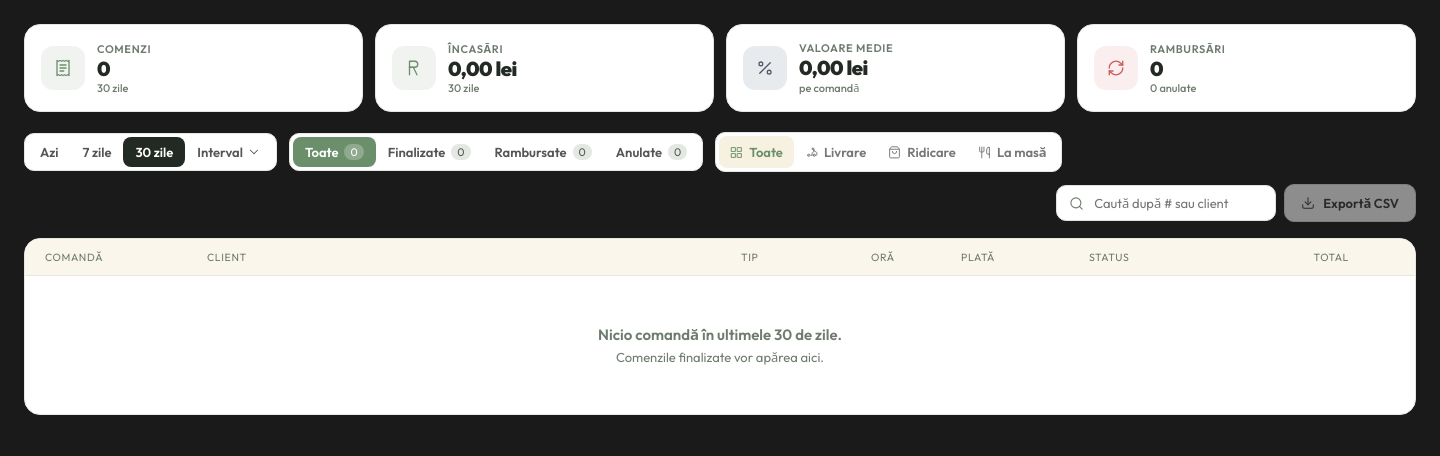
Test: Custom range popover wiring — D-03/D-04 (09-05) › WR-01: a genuine outside mousedown still closes the popover
The image size is (1440, 456).
Click the button with test id "history-period-pill" showing "Interval" at (229, 152), box [185,137,273,167]
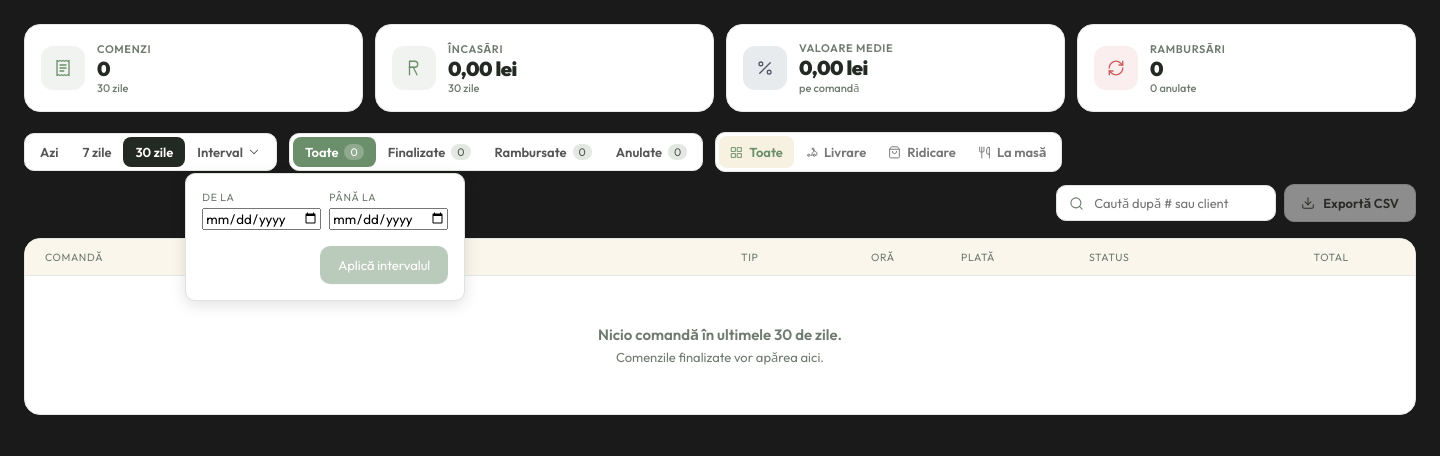
Result: the element with test id "history-range-popover" is shown at [185,173,465,301]
Press the mouse on the element that starts with "Comenzi" at (720, 220), box [0,0,1439,439]
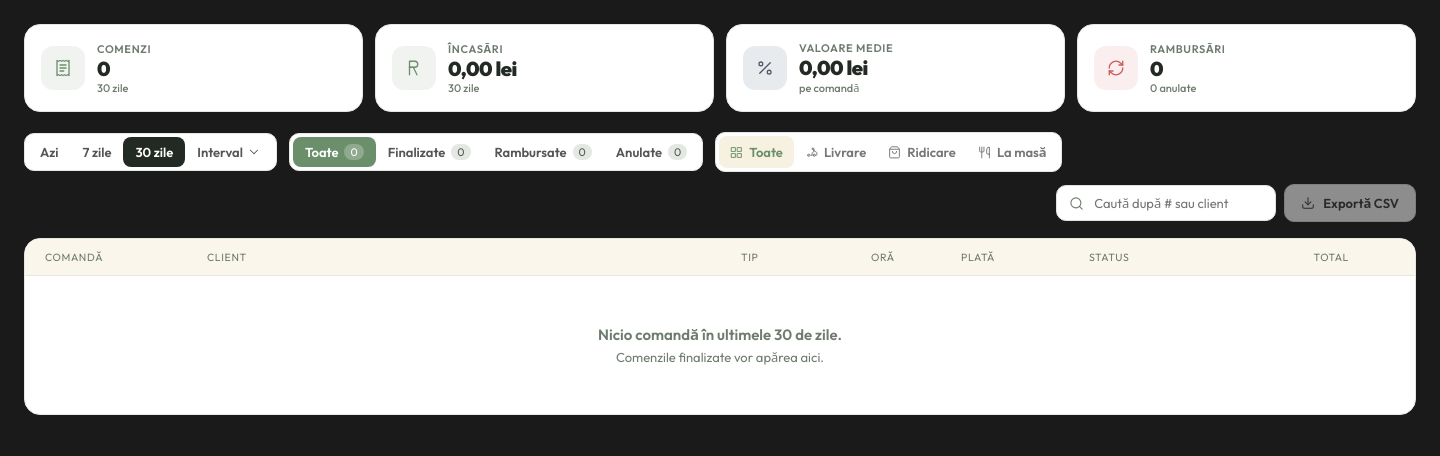
Result: the element with test id "history-range-popover" is gone
